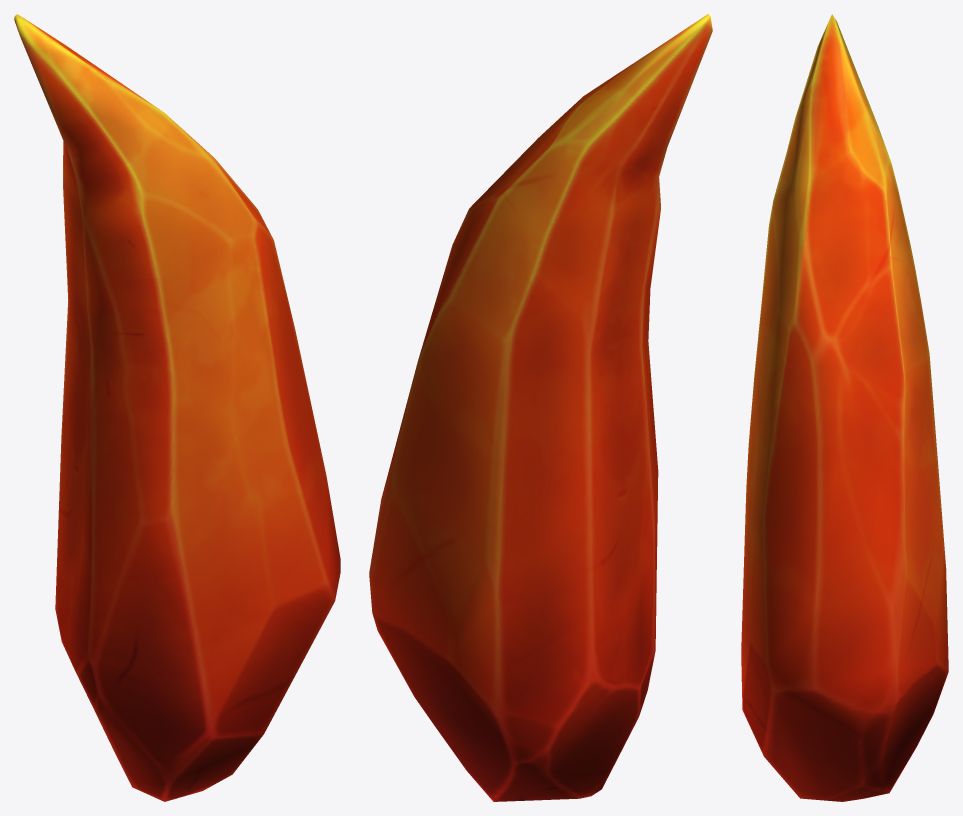
File: SM_Gem_FireCrystal_004.fbx
The picture shows the model from 3 angles, left to right: view 1: azimuth 30°, elevation 25°; view 2: azimuth 150°, elevation 25°; view 3: azimuth 270°, elevation 25°; orthographic projection. The views are drawn at different scales.
Visible parts, largest first — view 1: SM_Gem_FireCrystal_004; view 2: SM_Gem_FireCrystal_004; view 3: SM_Gem_FireCrystal_004.
Part boxes in pixels (left/top/right/bottom): SM_Gem_FireCrystal_004: left=14, top=14, right=340, bottom=801; SM_Gem_FireCrystal_004: left=369, top=14, right=712, bottom=801; SM_Gem_FireCrystal_004: left=741, top=14, right=948, bottom=801.
Bounding box in the file's own units: 25.42 × 61.94 × 16.42.
